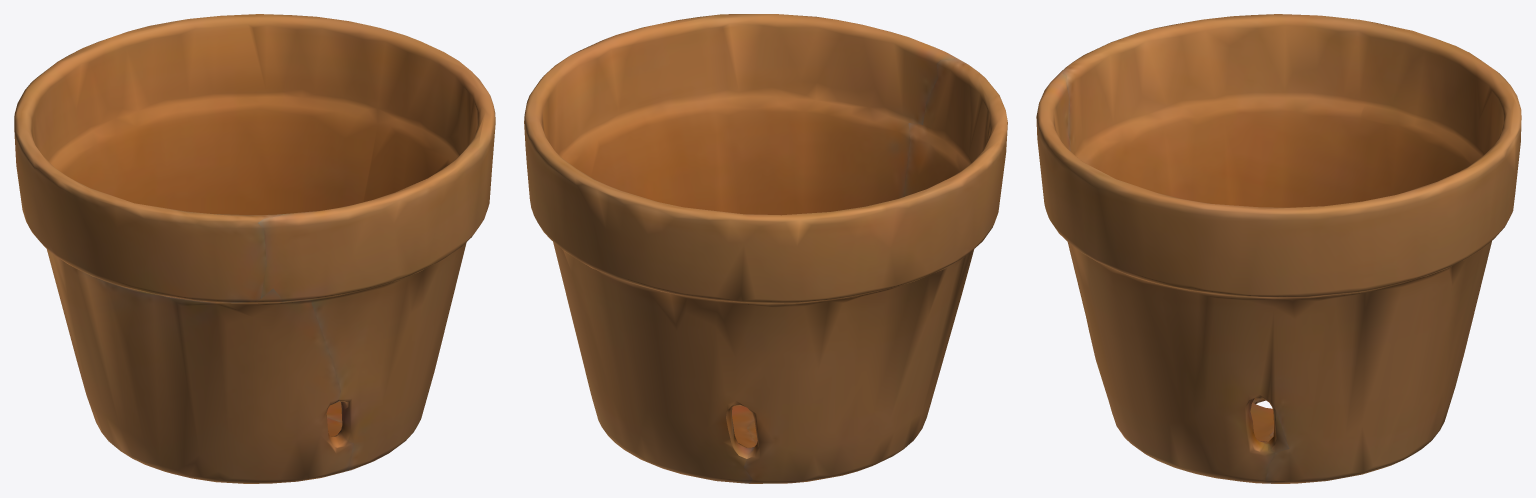
Rendered from Cole_Hardware_Orchid_Pot_85-high.glb.
3 renders of one model, left to right at view 1: azimuth 30°, elevation 25°; view 2: azimuth 150°, elevation 25°; view 3: azimuth 270°, elevation 25°, orthographic.
Parts seen in each view (by area): view 1: Cole_Hardware_Orchid_Pot_85; view 2: Cole_Hardware_Orchid_Pot_85; view 3: Cole_Hardware_Orchid_Pot_85.
Boxes of the visible parts, x1,y1,x2,y2 form: Cole_Hardware_Orchid_Pot_85: (14, 14, 495, 483); Cole_Hardware_Orchid_Pot_85: (524, 14, 1007, 483); Cole_Hardware_Orchid_Pot_85: (1036, 14, 1521, 483).
Bounding box in the file's own units: 0.2114 × 0.1479 × 0.2101.
Materials: 1 (1 with a texture image).
